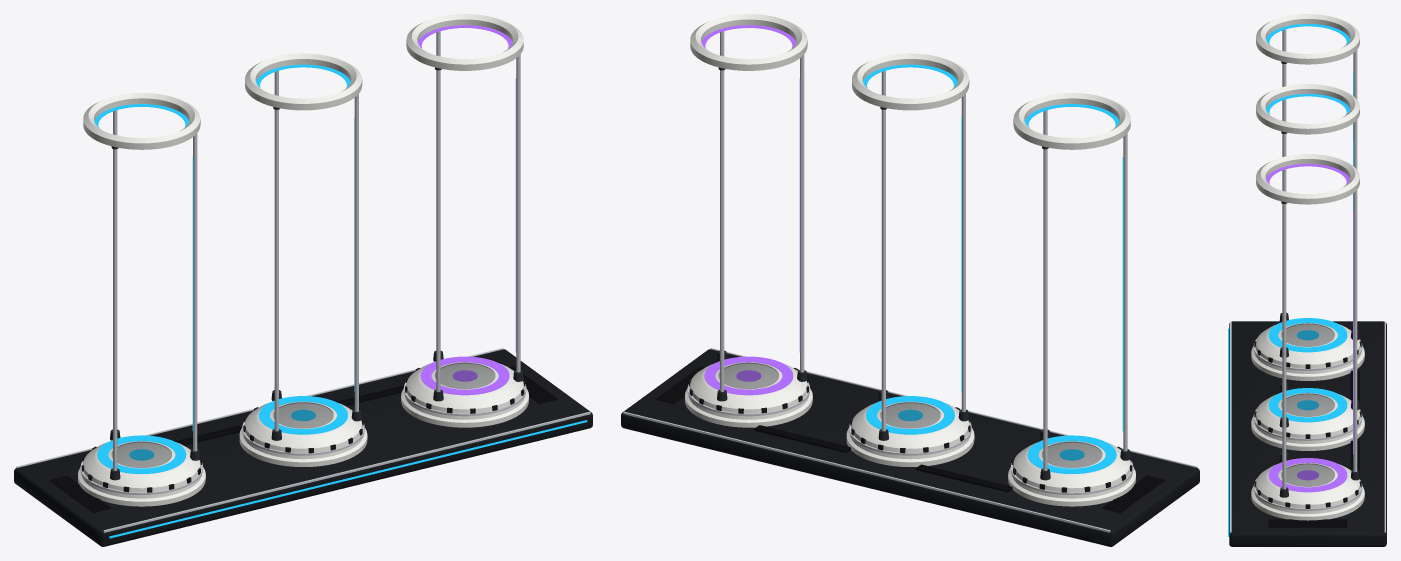
File: data_pillars.glb
3 renders of one model, left to right at view 1: azimuth 30°, elevation 25°; view 2: azimuth 150°, elevation 25°; view 3: azimuth 270°, elevation 25°, orthographic. The views are drawn at different scales.
Visible parts, largest first — view 1: dataPillarsBody; view 2: dataPillarsBody; view 3: dataPillarsBody.
Part boxes in pixels (x1,y1,x2,y2): dataPillarsBody: (14, 14, 592, 546); dataPillarsBody: (621, 14, 1199, 546); dataPillarsBody: (1228, 14, 1386, 546).
Size of the model in its own units: 3.2 by 2.36 by 1.01.
